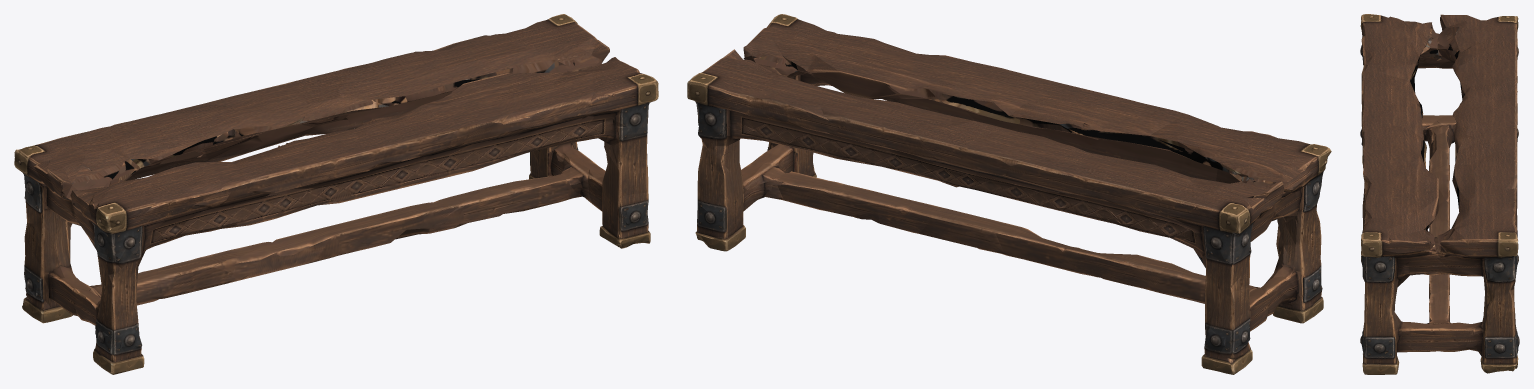
Rendered from student_bench.glb.
The picture shows the model from 3 angles, left to right: view 1: azimuth 30°, elevation 25°; view 2: azimuth 150°, elevation 25°; view 3: azimuth 270°, elevation 25°; orthographic projection. The views are drawn at different scales.
Parts seen in each view (by area): view 1: output_unwrapped; view 2: output_unwrapped; view 3: output_unwrapped.
Boxes of the visible parts, box(x1,y1,x2,y2) form: output_unwrapped: box(14, 14, 658, 374); output_unwrapped: box(687, 14, 1331, 374); output_unwrapped: box(1360, 14, 1519, 374).
Size of the model in its own units: 1.9 by 0.5414 by 0.5624.
1 material, 1 textured.
